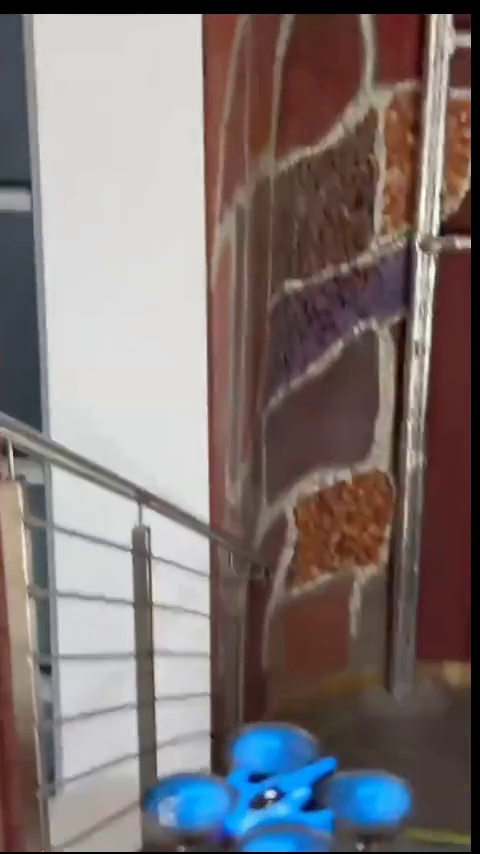drone: (141, 722, 418, 848)
